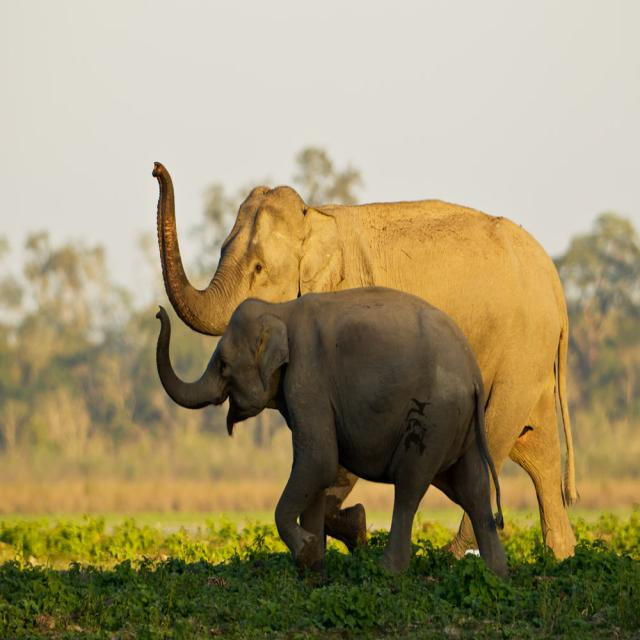Elephant: (137, 147, 590, 607), (147, 296, 528, 598)
